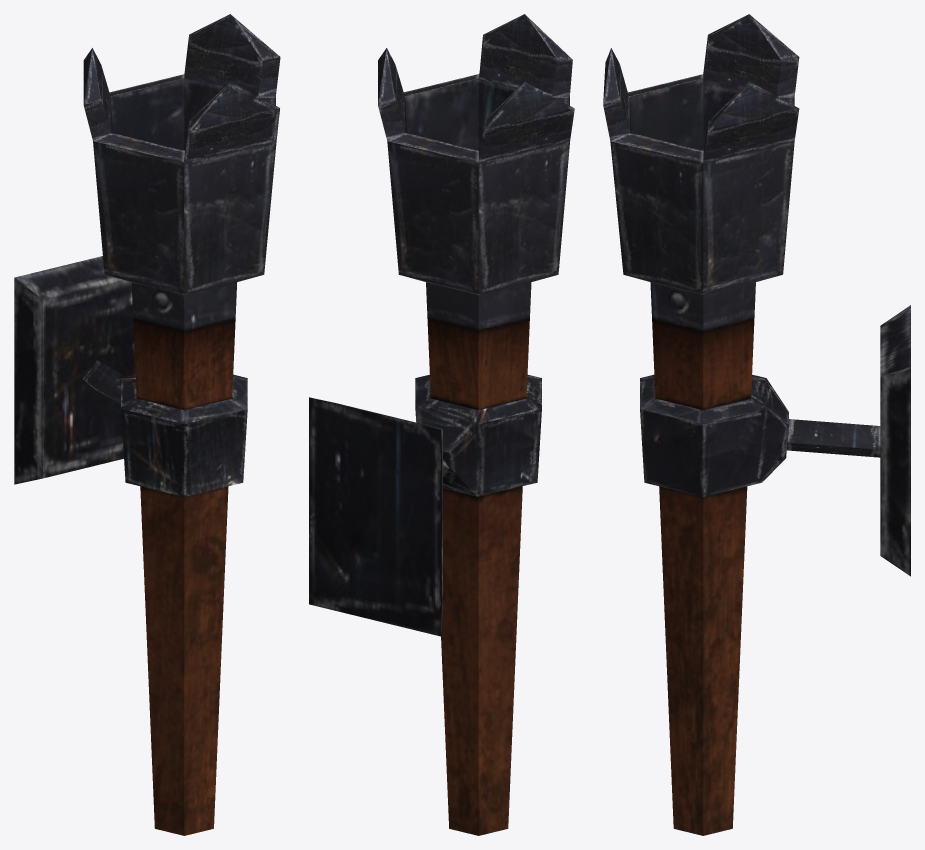
The model's file is MM_WallTorch.FBX.
3 renders of one model, left to right at view 1: azimuth 30°, elevation 25°; view 2: azimuth 150°, elevation 25°; view 3: azimuth 270°, elevation 25°, orthographic.
Visible parts, largest first — view 1: MM_WallTorch; view 2: MM_WallTorch; view 3: MM_WallTorch.
Boxes of the visible parts, bbox=[...] form: MM_WallTorch: bbox=[14, 14, 280, 835]; MM_WallTorch: bbox=[309, 14, 574, 835]; MM_WallTorch: bbox=[603, 14, 910, 835].
Size of the model in its own units: 5.88 by 22.07 by 7.95.
